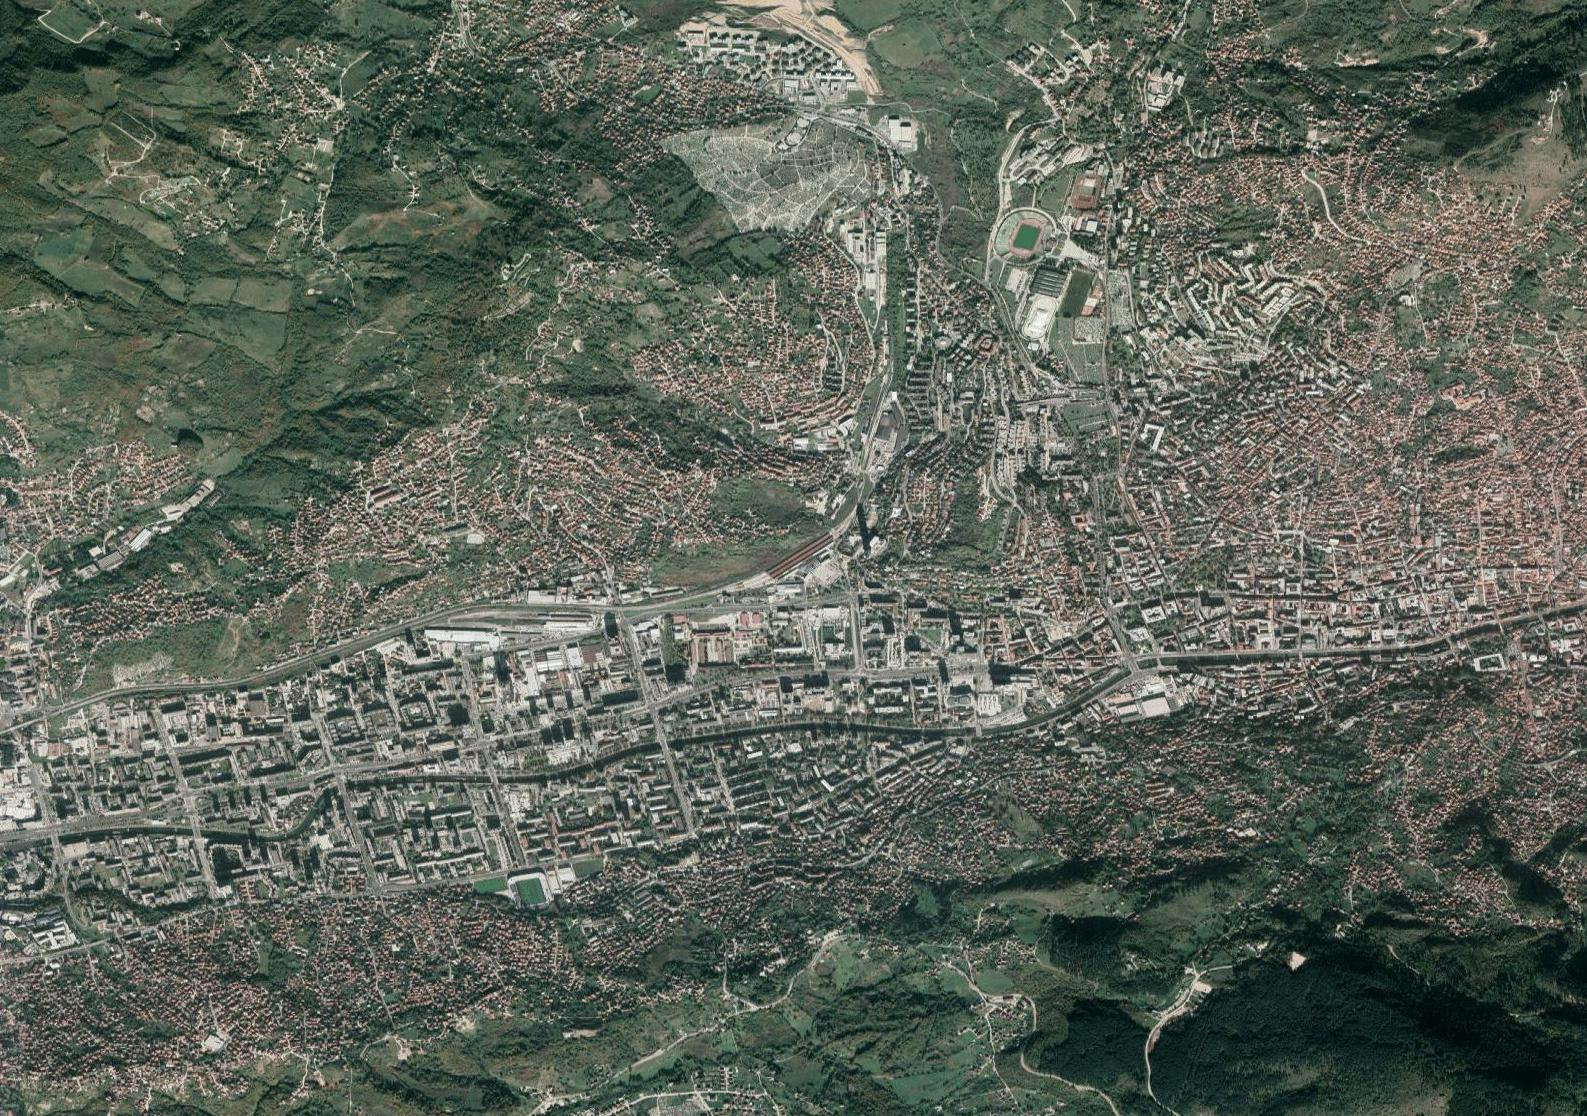train_station: (752, 521, 844, 589)
